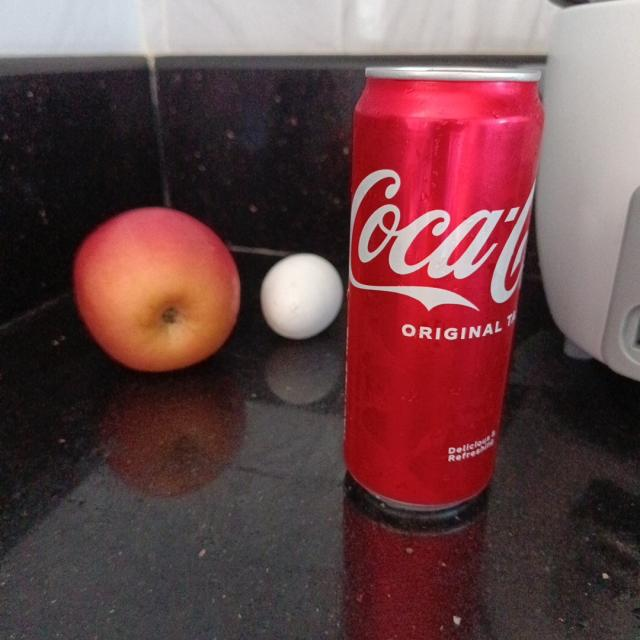apple: (74, 206, 238, 368)
coke: (339, 66, 546, 513)
egg: (259, 256, 339, 337)
